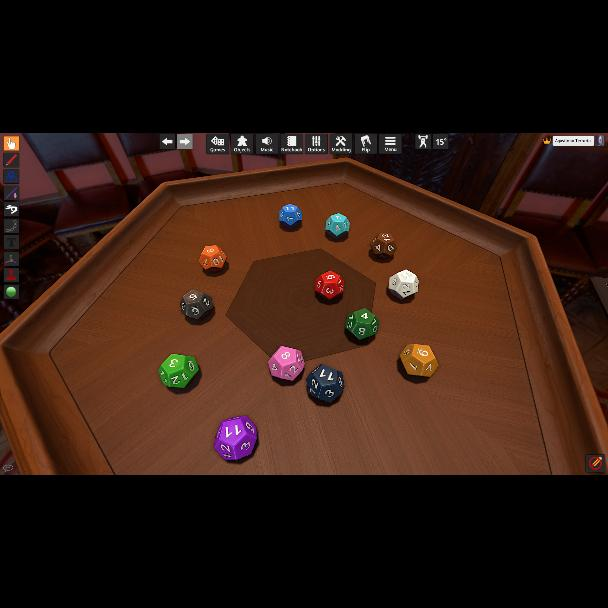d12: (213, 416, 257, 462), (309, 363, 344, 403), (159, 354, 199, 389), (268, 346, 304, 382), (400, 343, 436, 375), (180, 290, 214, 320), (345, 309, 377, 340), (392, 269, 420, 299), (315, 272, 343, 300), (200, 245, 227, 273), (370, 233, 394, 259), (278, 203, 302, 228), (325, 213, 348, 237)
